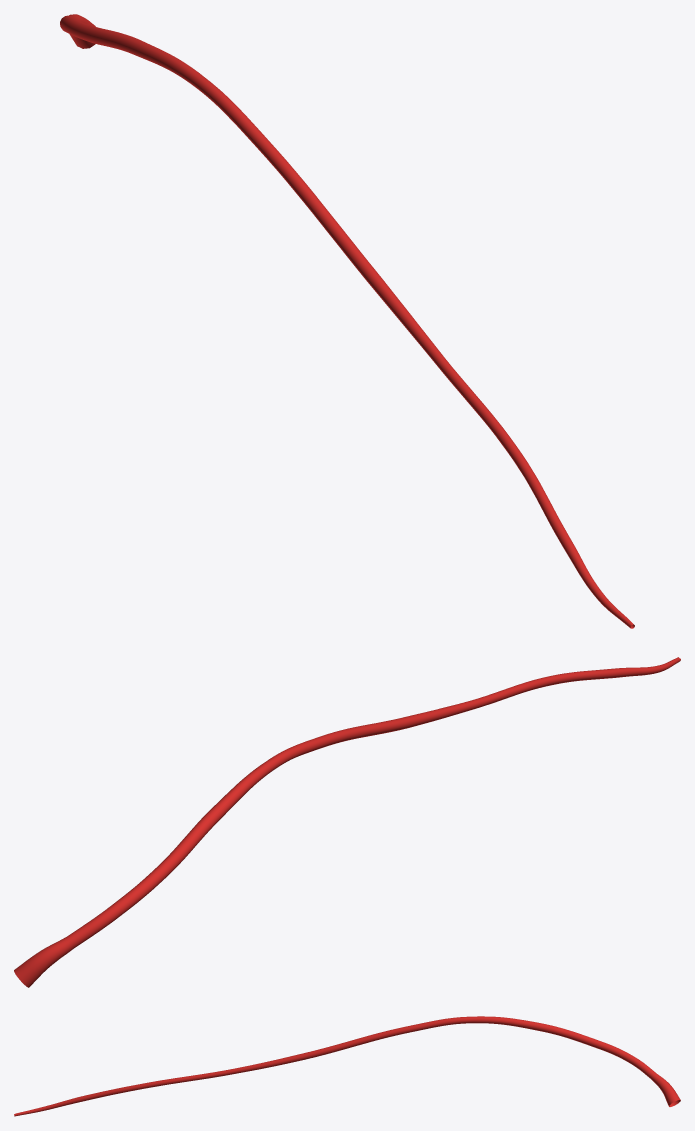
File: circulatorio-x-l.glb
3 views of the same model, one above another, from view 1: azimuth 30°, elevation 25°; view 2: azimuth 150°, elevation 25°; view 3: azimuth 270°, elevation 25° (orthographic). The views are drawn at different scales.
Visible parts, largest first — view 1: ?x.l; view 2: ?x.l; view 3: ?x.l.
Part boxes in pixels (x1=…): ?x.l: x1=60, y1=14, x2=634, y2=628; ?x.l: x1=14, y1=657, x2=680, y2=987; ?x.l: x1=14, y1=1016, x2=680, y2=1116.
Size of the model in its own units: 0.00553 by 0.00852 by 0.0487.
